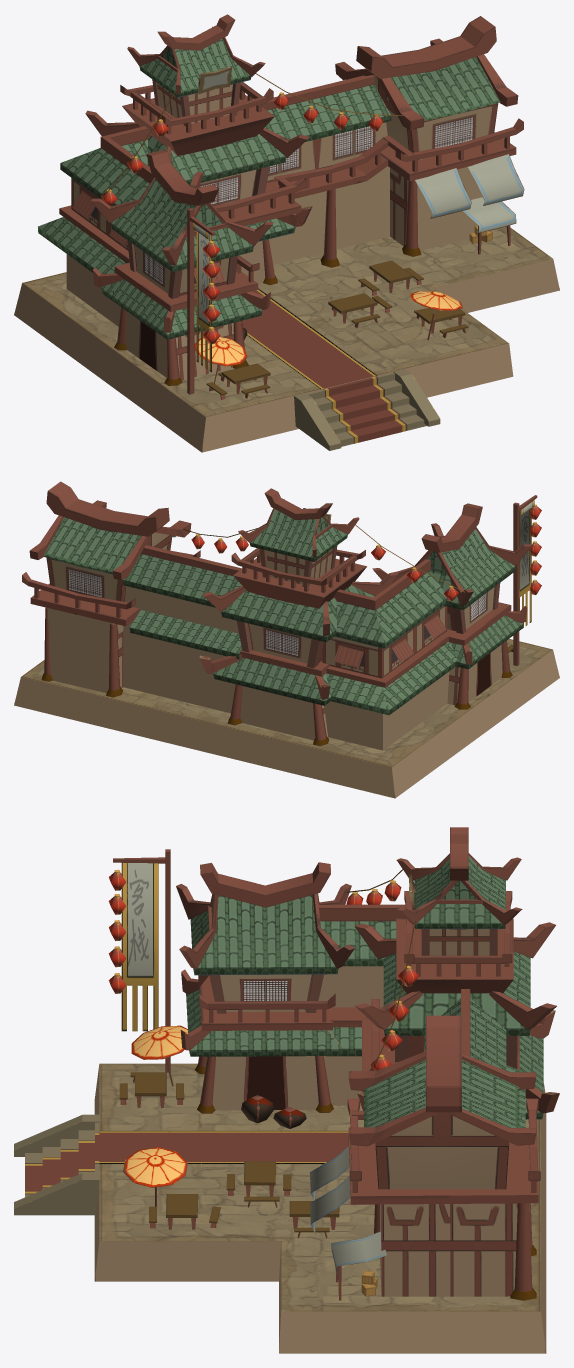
The model's file is jiuguan.FBX.
3 renders of one model, top to bottom at view 1: azimuth 30°, elevation 25°; view 2: azimuth 150°, elevation 25°; view 3: azimuth 270°, elevation 25°, orthographic. The views are drawn at different scales.
Parts seen in each view (by area): view 1: Object02; view 2: Object02; view 3: Object02.
Boxes of the visible parts, <box> form: Object02: <box>14,14,559,452</box>; Object02: <box>14,481,559,798</box>; Object02: <box>14,827,559,1353</box>.
Size of the model in its own units: 66.92 by 59.75 by 40.65.
